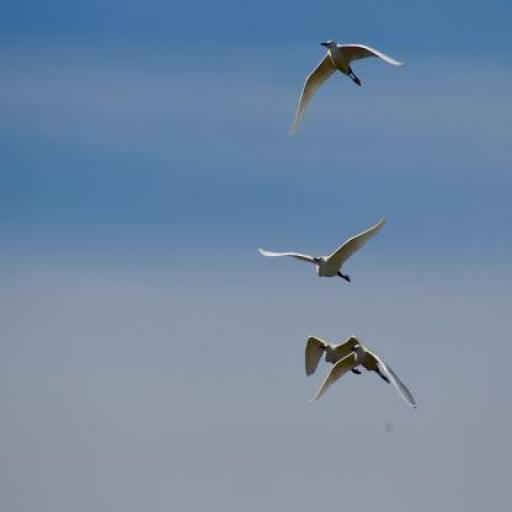bird: (286, 39, 405, 138), (256, 219, 386, 283), (309, 344, 418, 410), (304, 335, 360, 377)
